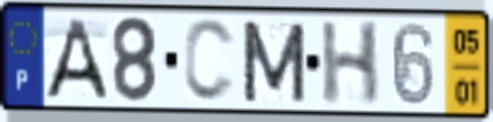6: (390, 20, 437, 110)
8: (109, 13, 159, 106)
A: (40, 16, 111, 102)
C: (180, 16, 238, 106)
H: (318, 18, 384, 108)
M: (239, 17, 309, 105)
